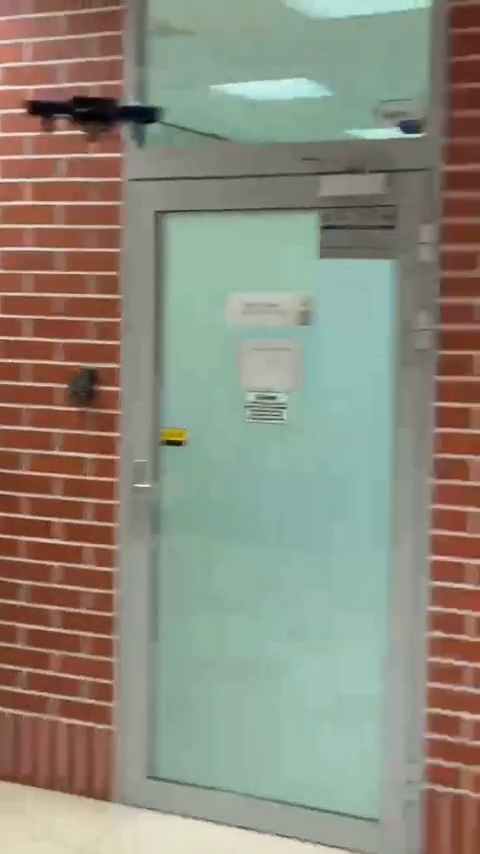drone: (23, 91, 165, 147)
